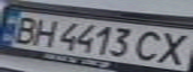1: (90, 24, 115, 56)
3: (109, 25, 139, 60)
4: (54, 20, 81, 52), (75, 21, 96, 54)
B: (3, 15, 42, 45)
C: (130, 28, 172, 63)
H: (27, 16, 60, 48)
X: (151, 29, 193, 66)
